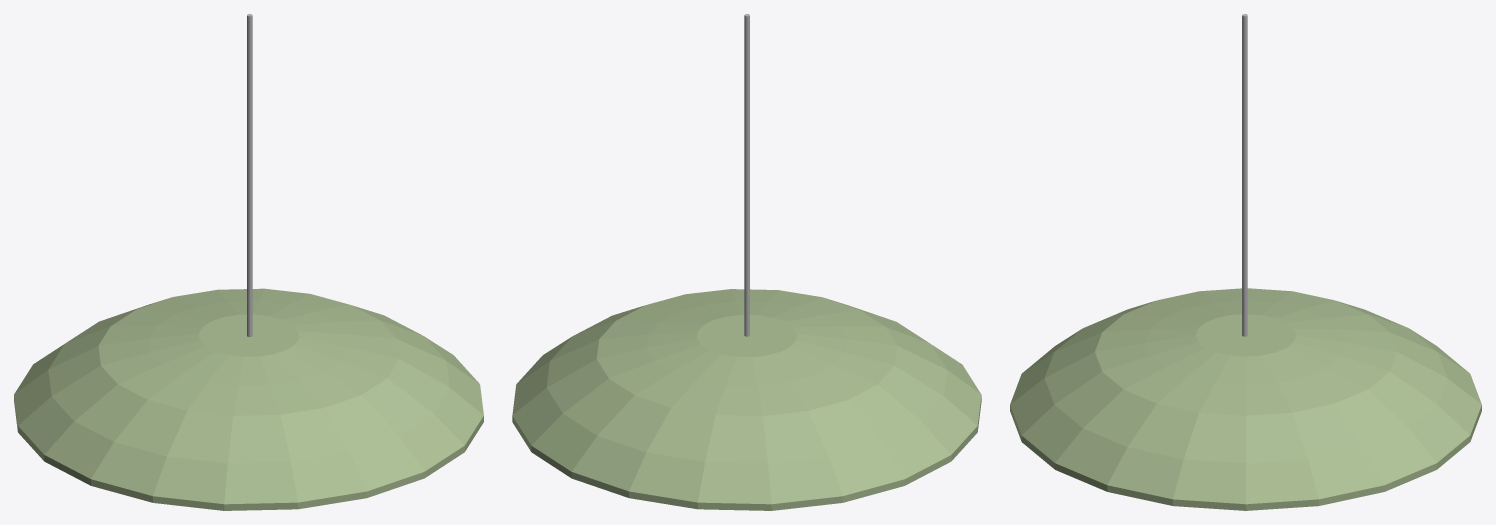
File: lamp.fbx
The picture shows the model from 3 angles, left to right: view 1: azimuth 30°, elevation 25°; view 2: azimuth 150°, elevation 25°; view 3: azimuth 270°, elevation 25°; orthographic projection.
Parts seen in each view (by area): view 1: pCylinder26, pCylinder27; view 2: pCylinder26, pCylinder27; view 3: pCylinder26, pCylinder27.
Boxes of the visible parts, left/top/right/bottom form: pCylinder26: left=14, top=288, right=483, bottom=510; pCylinder27: left=247, top=14, right=252, bottom=336; pCylinder26: left=512, top=289, right=981, bottom=510; pCylinder27: left=744, top=14, right=749, bottom=336; pCylinder26: left=1010, top=288, right=1481, bottom=510; pCylinder27: left=1242, top=14, right=1247, bottom=336.
Size of the model in its own units: 45.47 by 42.13 by 45.47.
